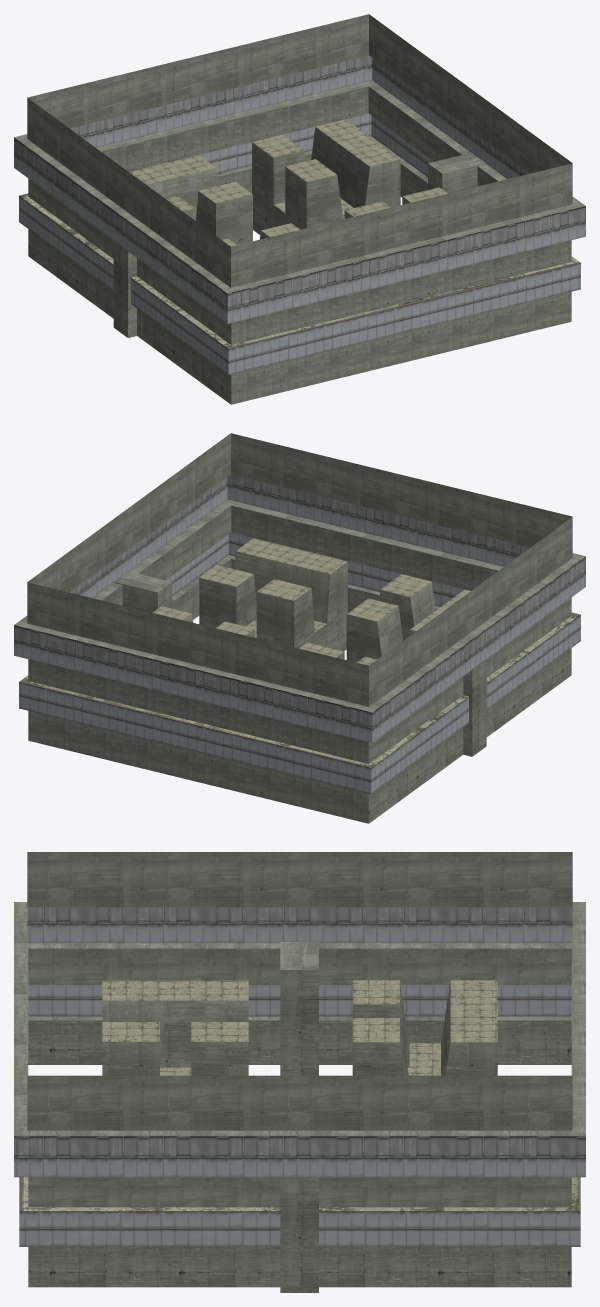
The model's file is SM_LDFest_11_Block_00.fbx.
The picture shows the model from 3 angles, top to bottom: view 1: azimuth 30°, elevation 25°; view 2: azimuth 150°, elevation 25°; view 3: azimuth 270°, elevation 25°; orthographic projection. The views are drawn at different scales.
Parts seen in each view (by area): view 1: SM_LDFest_11_Block_00, SM_LDFest_11_Block_00.001; view 2: SM_LDFest_11_Block_00, SM_LDFest_11_Block_00.001; view 3: SM_LDFest_11_Block_00, SM_LDFest_11_Block_00.001.
Part boxes in pixels (x1,y1,x2,y2): SM_LDFest_11_Block_00: [14, 14, 585, 404]; SM_LDFest_11_Block_00.001: [14, 55, 585, 375]; SM_LDFest_11_Block_00: [14, 433, 585, 823]; SM_LDFest_11_Block_00.001: [14, 474, 585, 794]; SM_LDFest_11_Block_00: [14, 852, 585, 1292]; SM_LDFest_11_Block_00.001: [14, 907, 585, 1246].
Bounding box in the file's own units: 3732 × 1582 × 3851.
